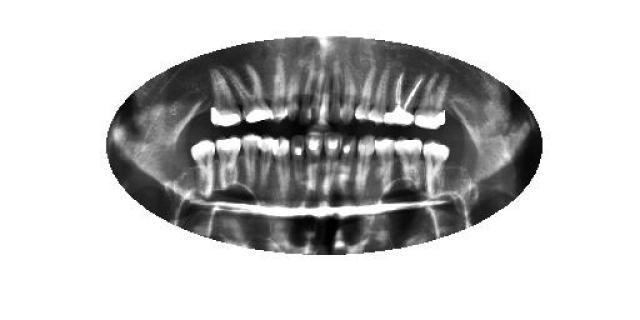Fillings: (226, 66, 272, 124), (415, 74, 450, 131), (211, 67, 241, 126)
Implant: (382, 72, 427, 126)
